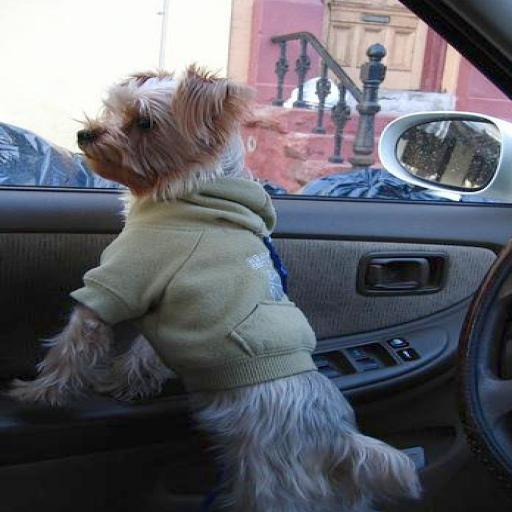dog_face: (73, 64, 248, 193)
